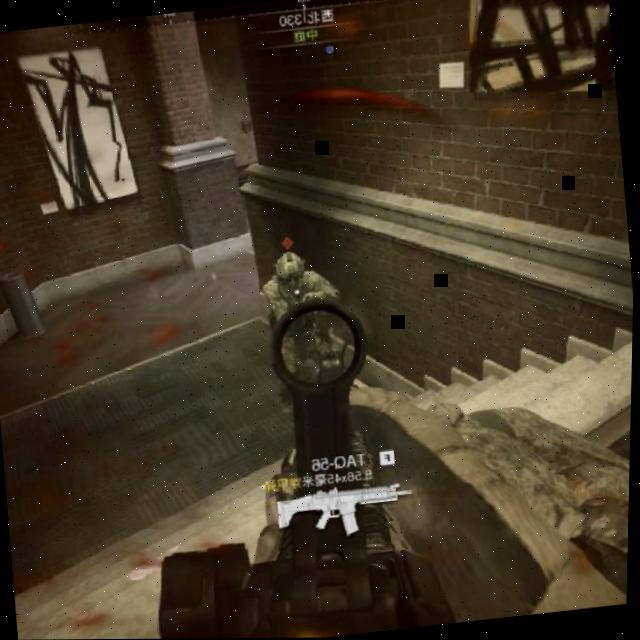MW2_body: (255, 231, 345, 376)
